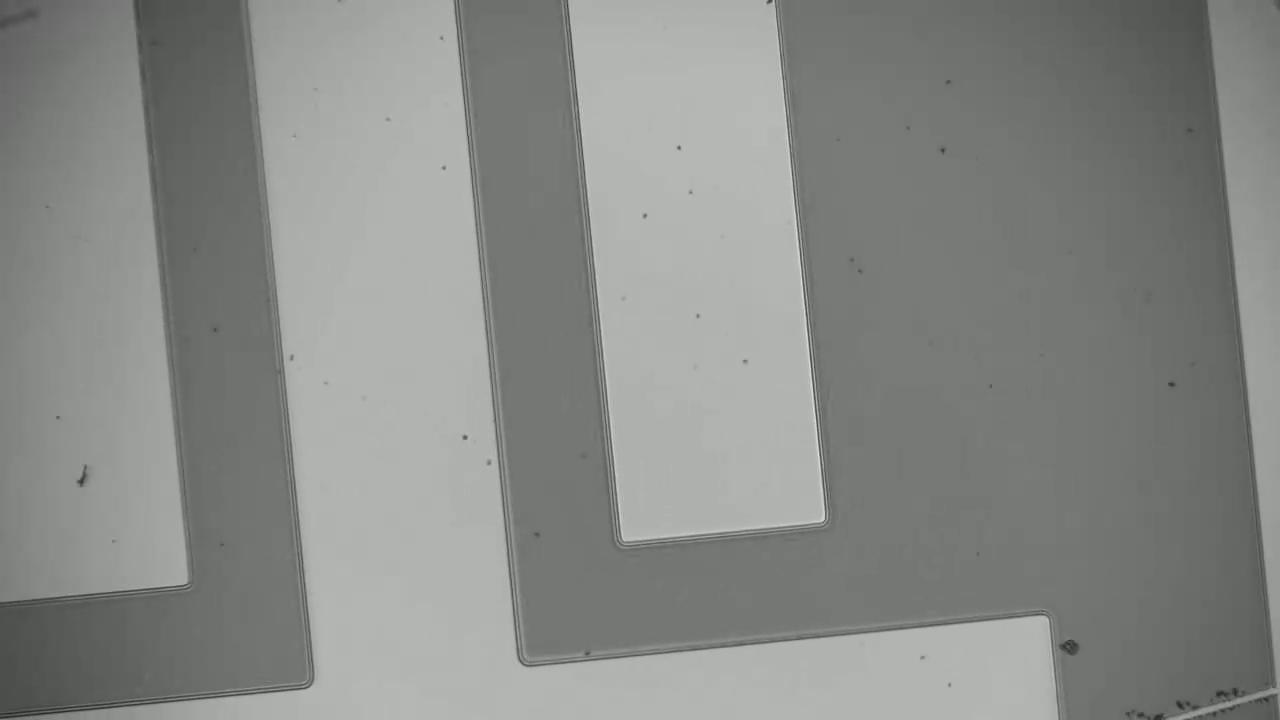scratch: (1177, 677, 1274, 713)
